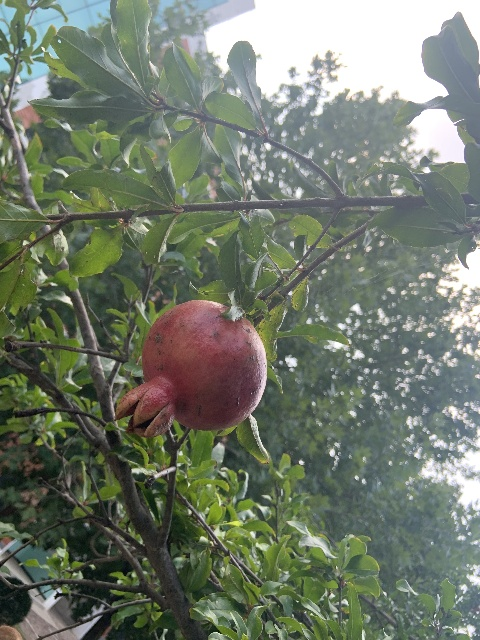ripe: (115, 300, 266, 436)
